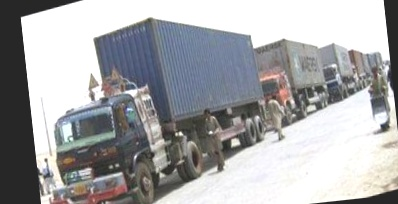truck: (21, 0, 284, 204), (252, 26, 333, 126), (318, 37, 360, 105)
